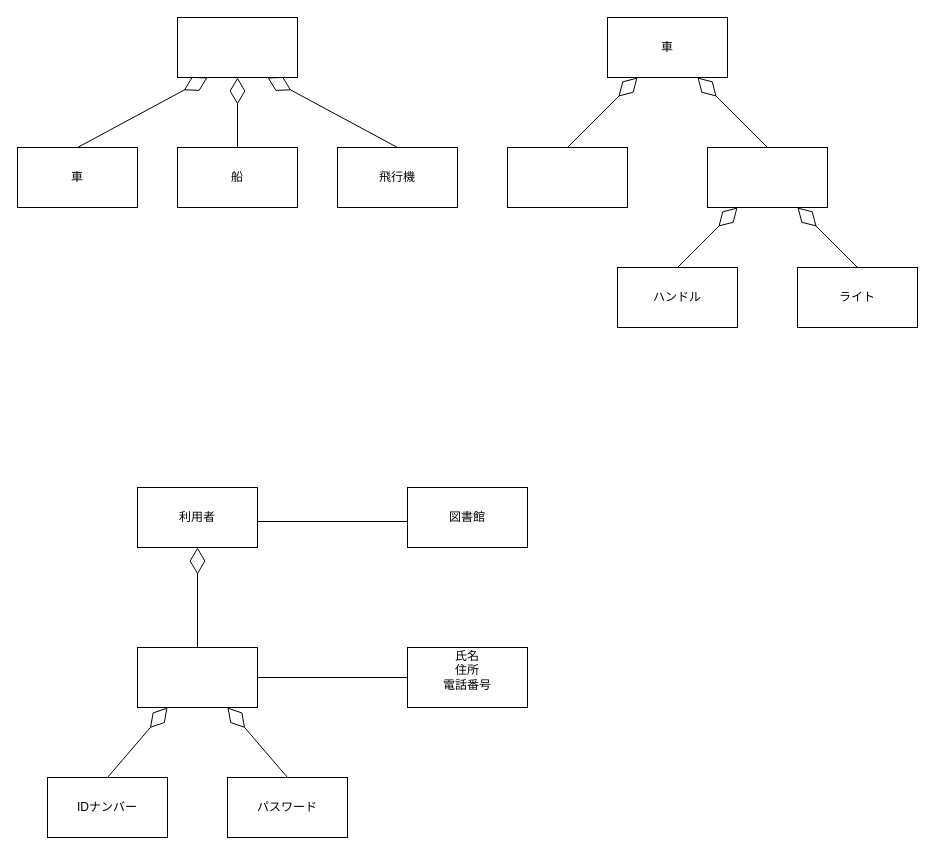
Image size: 935x855. Some labels were removed from this diagram. The box of each missing label's shape, as (x1, y1, x2, y2) in pixels:
エンジン: (506, 146, 628, 208)
ボディ: (706, 146, 828, 208)
乗り物: (176, 16, 298, 78)
図書カード: (136, 646, 258, 708)
